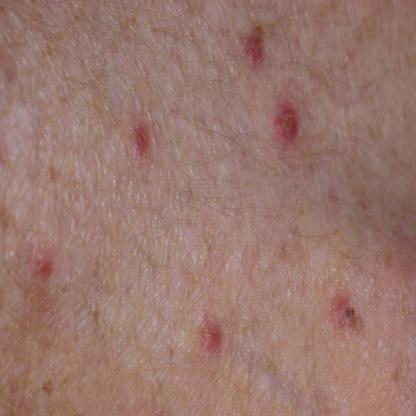Bed Bug: (326, 285, 366, 344), (240, 20, 271, 82), (270, 98, 299, 150), (197, 313, 223, 361), (129, 111, 151, 167), (30, 242, 56, 284)
